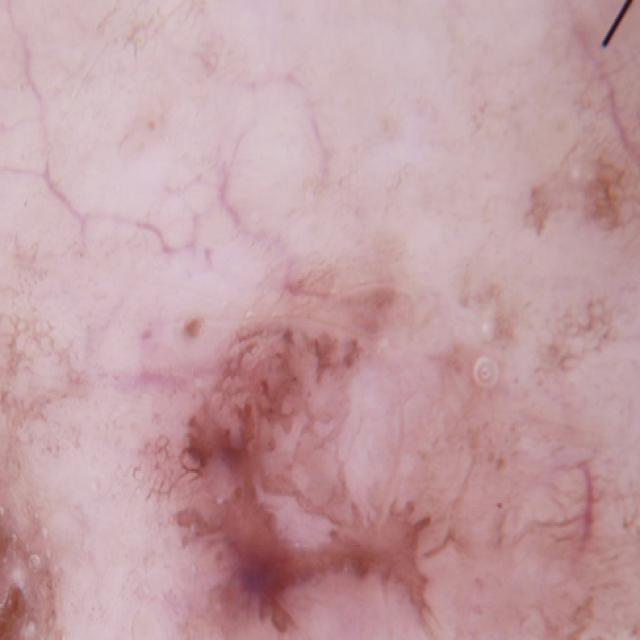Carcinoma: (159, 275, 453, 640), (0, 374, 68, 640)
